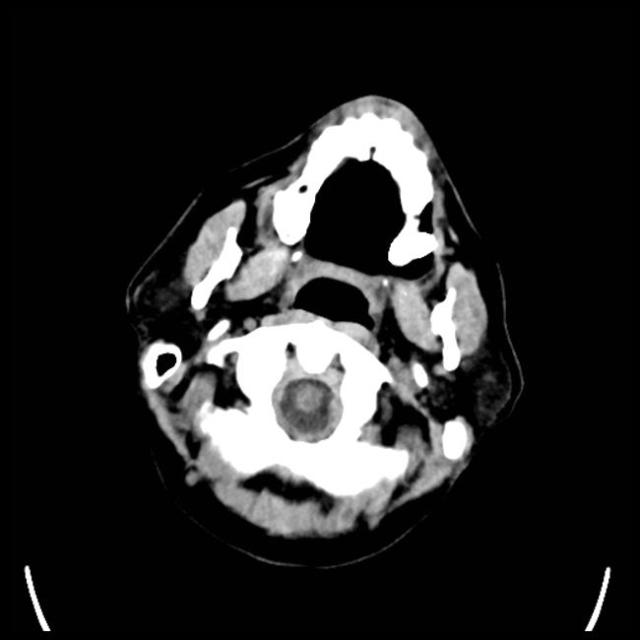lesion: (120, 91, 527, 556)
